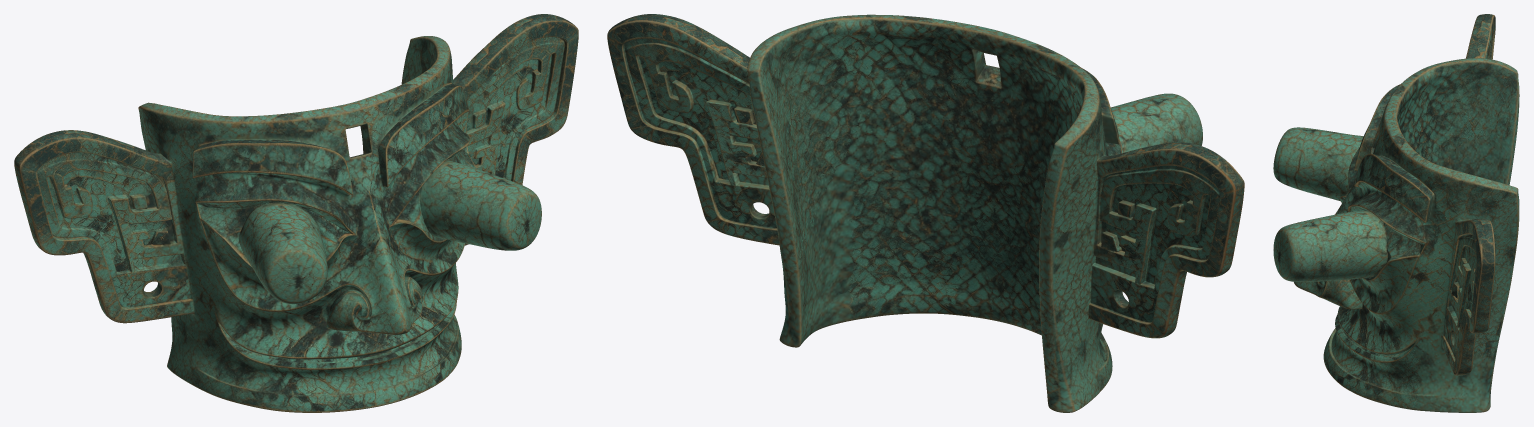
Rendered from bronze-zongmu.glb.
3 views of the same model, side by side, from view 1: azimuth 30°, elevation 25°; view 2: azimuth 150°, elevation 25°; view 3: azimuth 270°, elevation 25° (orthographic). The views are drawn at different scales.
Bounding box in the file's own units: 1.9 × 0.8866 × 0.8108.
Materials: 1 (1 with a texture image).
